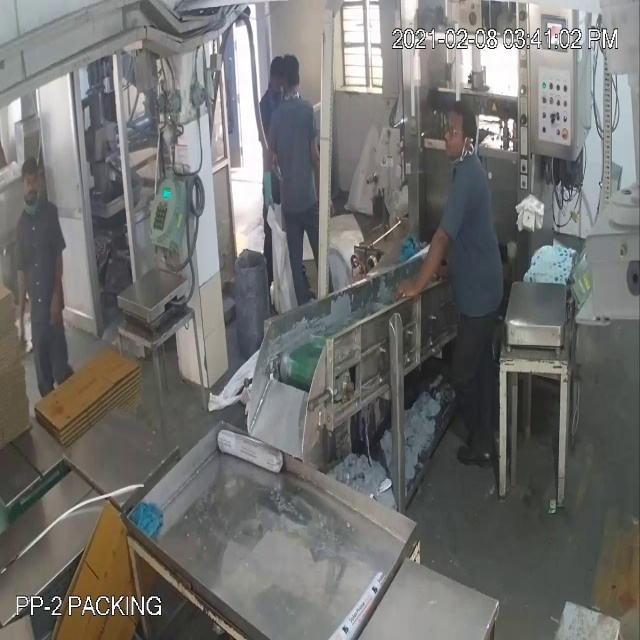Sin_guantes: (392, 220, 459, 308), (6, 243, 37, 364), (44, 231, 68, 337)
